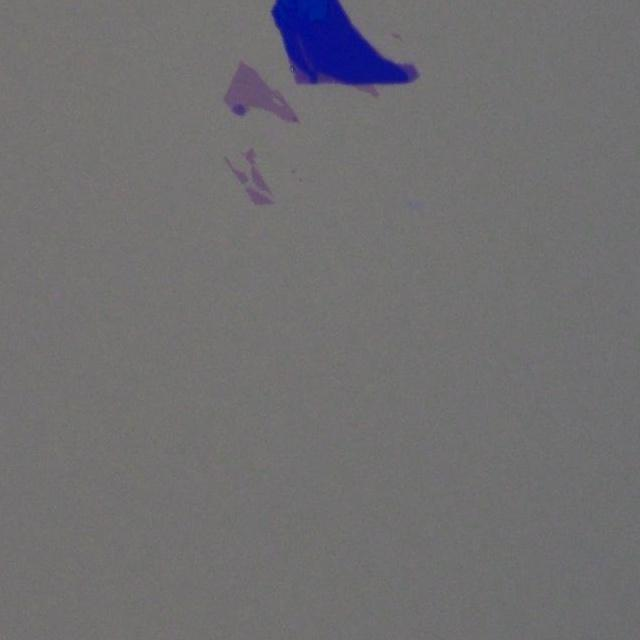monolayer-eWW4: (226, 61, 298, 129), (222, 152, 282, 212)
